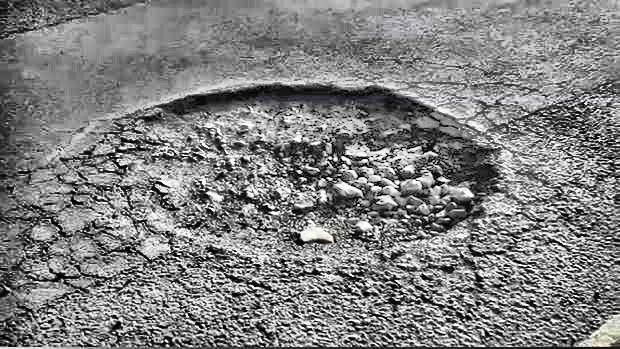pothole: (116, 82, 510, 247)
